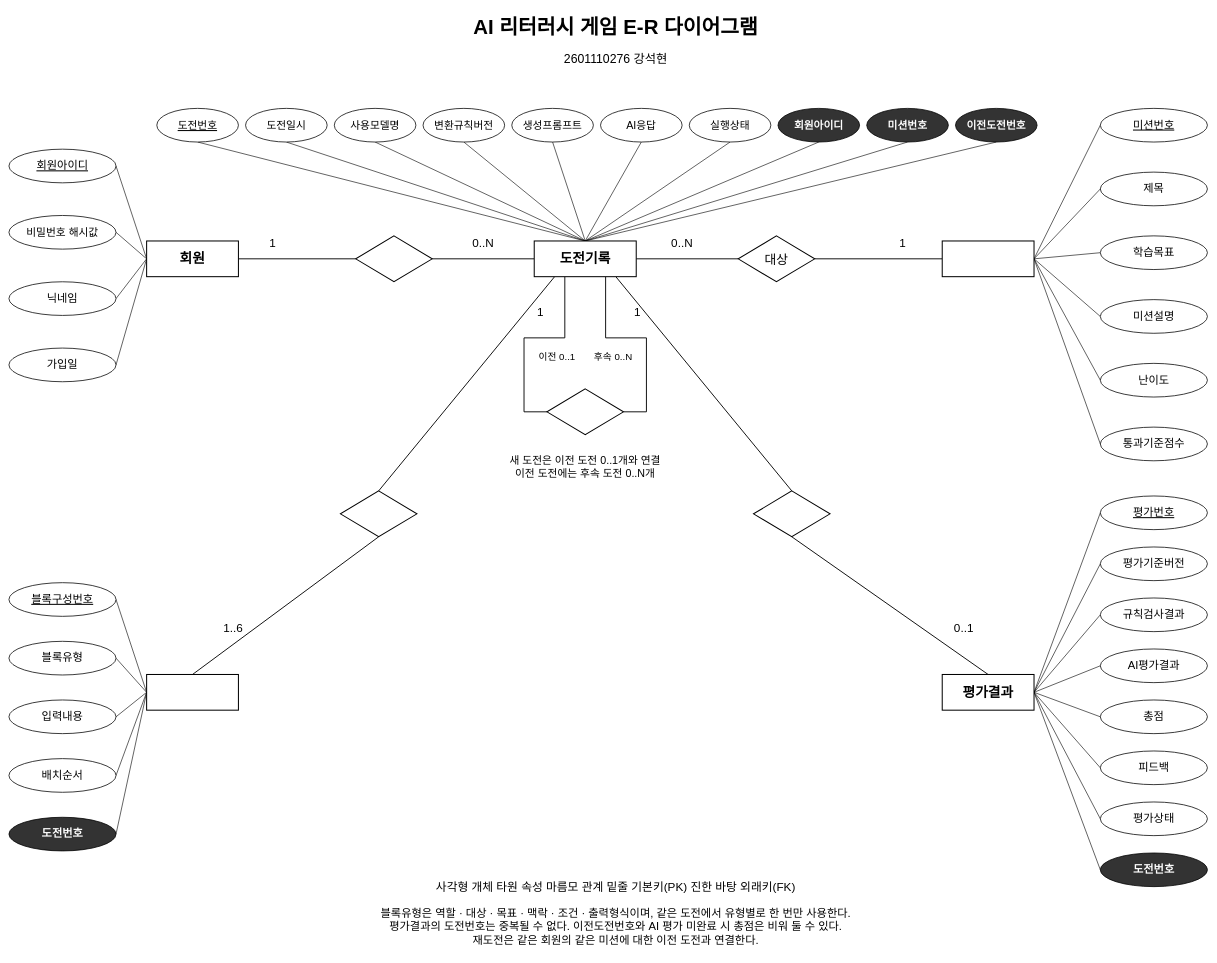
The diagram is 1217 pixels wide and 963 high, and some of its shapes have lost their labels. The box of each missing label's shape, as (x1, y1, x2, y2) in pixels:
도전: (355, 235, 432, 282)
미션: (941, 240, 1034, 277)
블록구성: (146, 674, 239, 710)
재도전: (546, 388, 624, 435)
평가: (753, 490, 830, 537)
포함: (340, 490, 417, 537)
